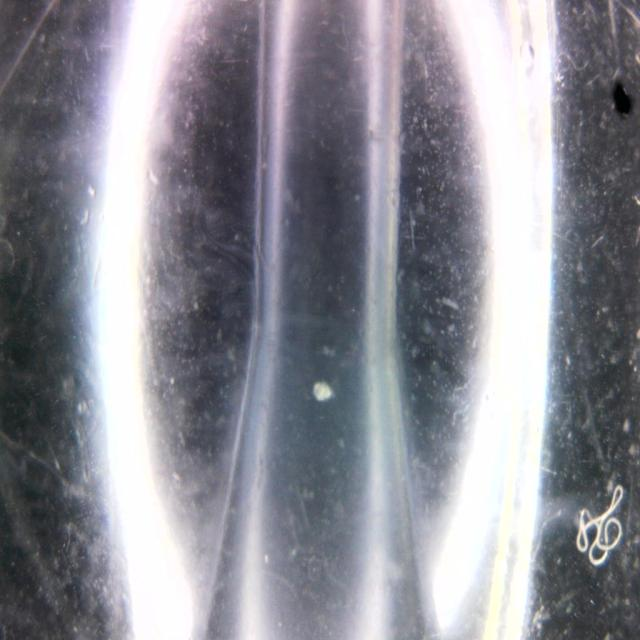pipe: (202, 0, 430, 640)
